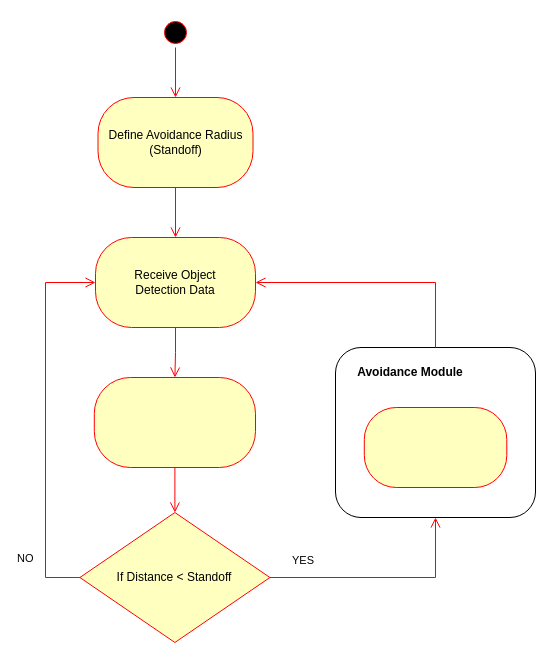
Image size: 553x660. Some labels were removed from this diagram. The shapes that lost their labels are listed below. From the top down, each one's centre as x and y in pixels, then its label:
the point at 174,422: Iterate Sensor Data & Calculate Object Distance
the point at 435,447: Make Avoidance Maneuver
